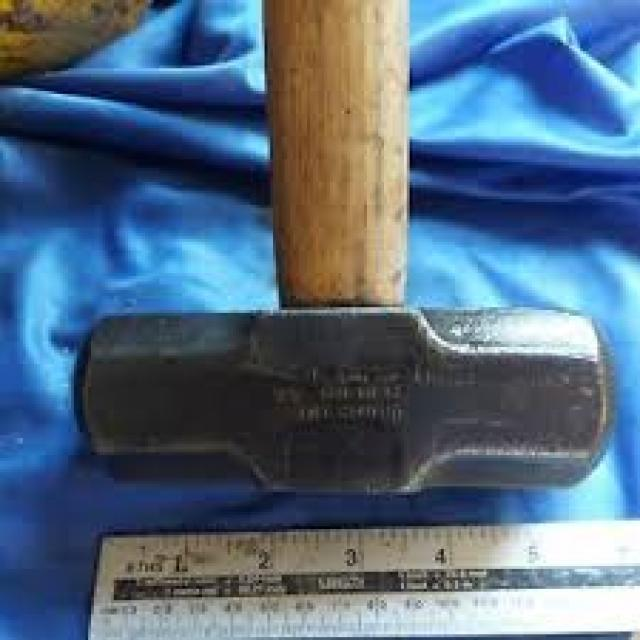hammer: (68, 0, 622, 506)
